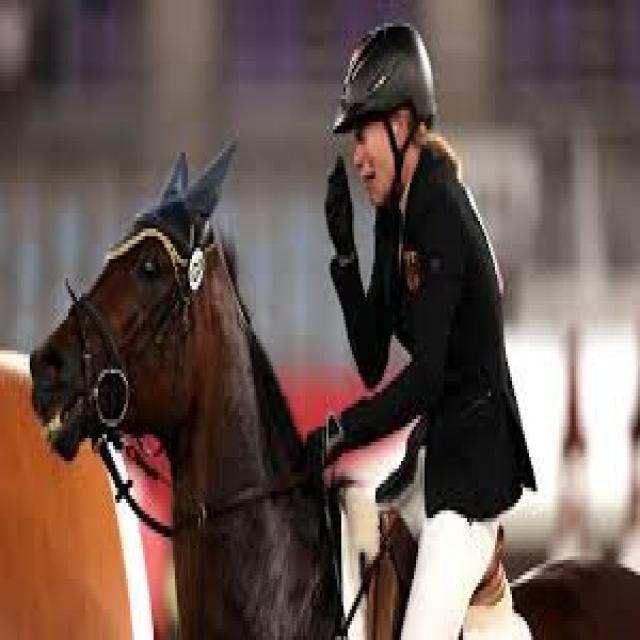Horse: (28, 184, 350, 640)
